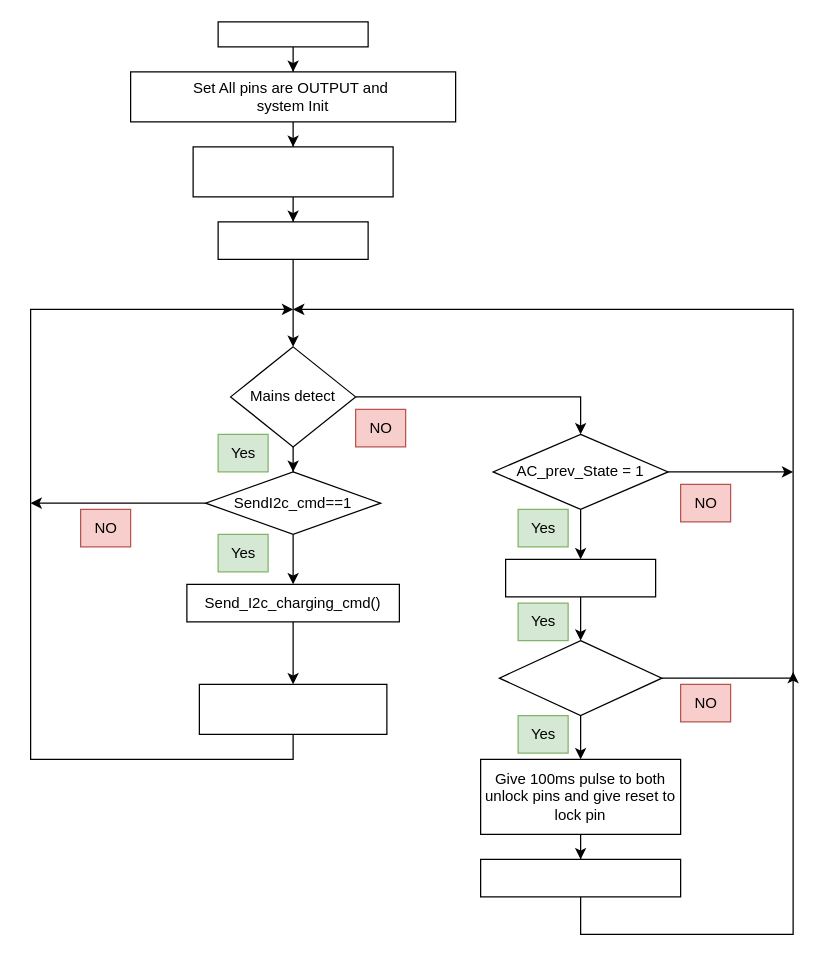
Some shapes in this 825 by 966 pixel diagram are drawn without their labels. Here are the shapes that lost their labels. From the top down, the centre of each, then its label:
At (292,34): "POWER_ON".
At (292,171): "AC_prev_State = 1 SendI2c_cmd = 1".
At (292,240): "Wait for 5 second".
At (580,577): "Delay(1 second )".
At (580,677): "AC_mains_lost?".
At (292,708): "AC_prev_State = 1 SendI2c_cmd= 0".
At (580,877): "AC_prev_State = 0".
